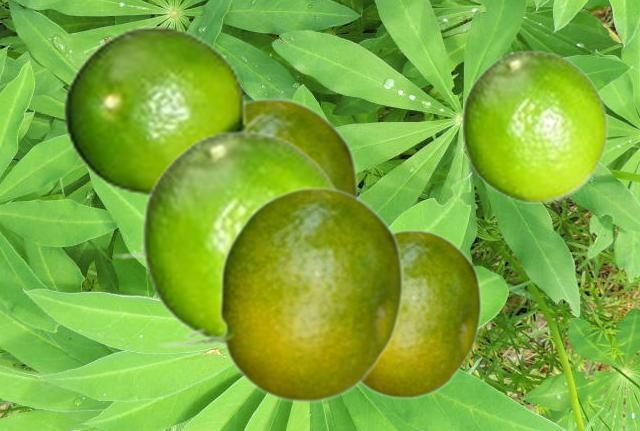calamansi: (157, 185, 403, 402), (141, 129, 343, 346), (112, 96, 358, 263), (62, 26, 267, 196), (461, 49, 608, 202), (361, 228, 481, 398)
